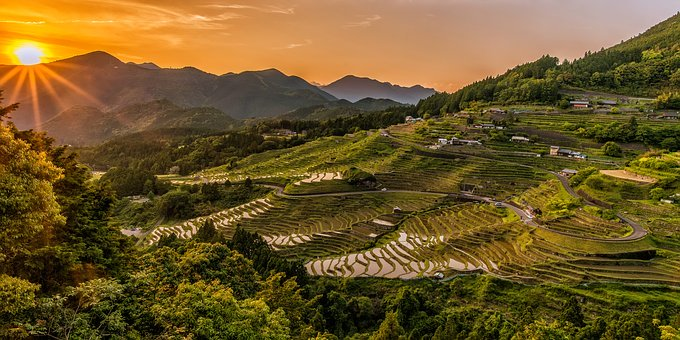field: (13, 101, 680, 340)
mountain: (10, 56, 430, 133)
sky: (2, 5, 571, 71)
